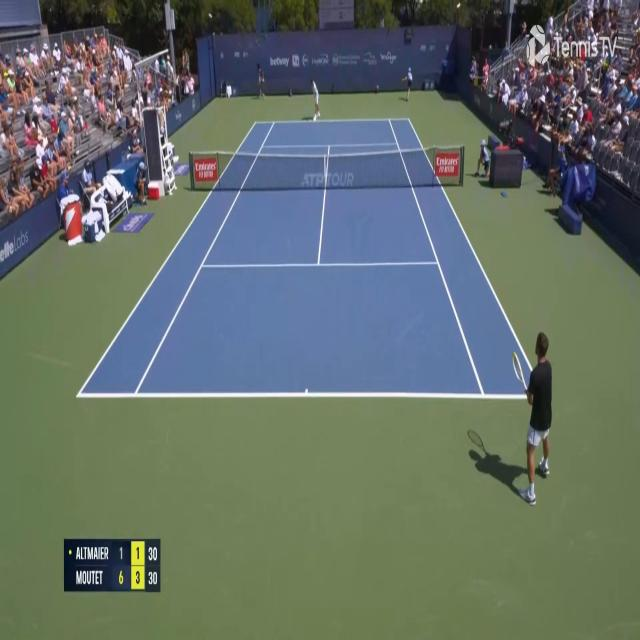tennis-player: (512, 326, 558, 508), (308, 76, 322, 124)
